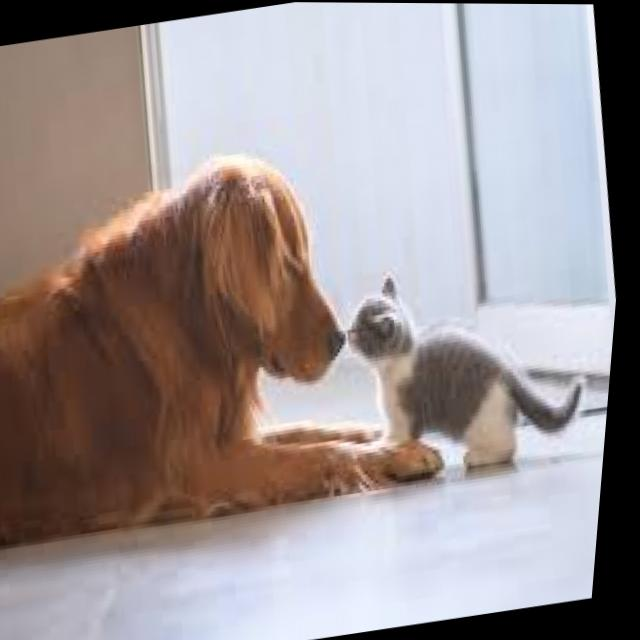Cat: (330, 247, 591, 489)
Dog: (81, 146, 383, 533)
